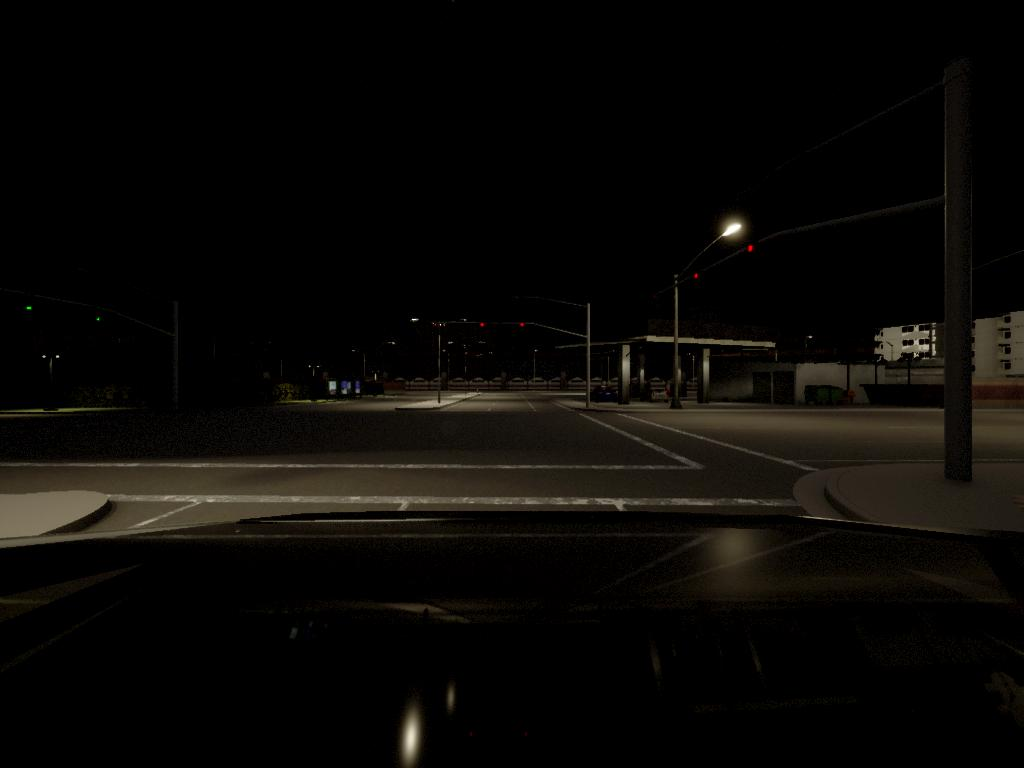traffic_light: (26, 298, 34, 314), (95, 310, 103, 326), (747, 245, 756, 258), (693, 273, 701, 282), (480, 322, 487, 330), (520, 323, 526, 331)
